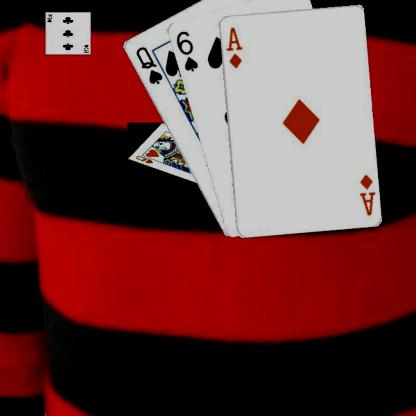6S: (173, 28, 199, 73)
AD: (223, 24, 244, 70), (356, 172, 376, 216)
QS: (133, 44, 164, 86)
